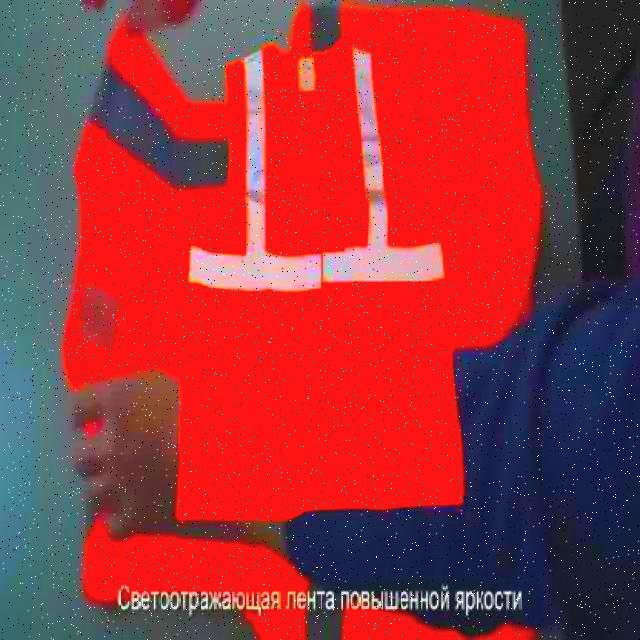Mask: (174, 39, 463, 526)
